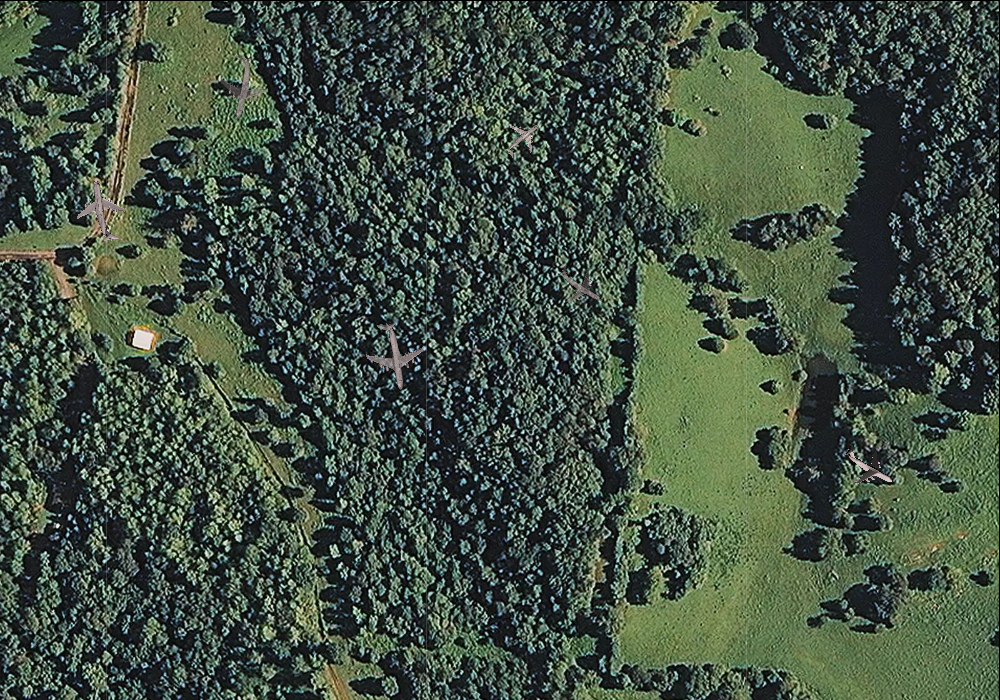plane: (356, 317, 430, 394), (206, 49, 275, 123), (833, 431, 905, 500), (69, 174, 135, 246), (547, 252, 614, 317), (494, 110, 552, 167)
